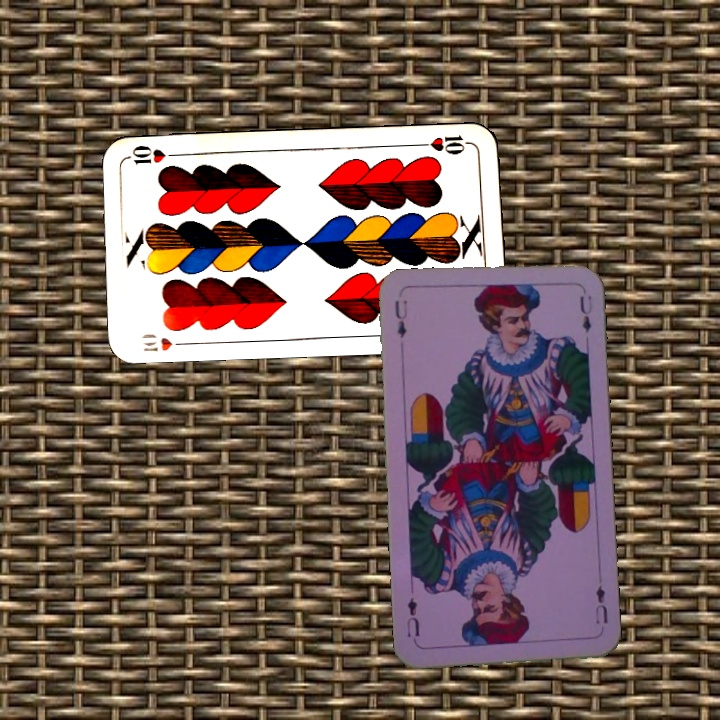EU: (591, 581, 610, 627), (391, 296, 410, 340)
H10: (416, 131, 475, 157), (139, 334, 192, 354)
